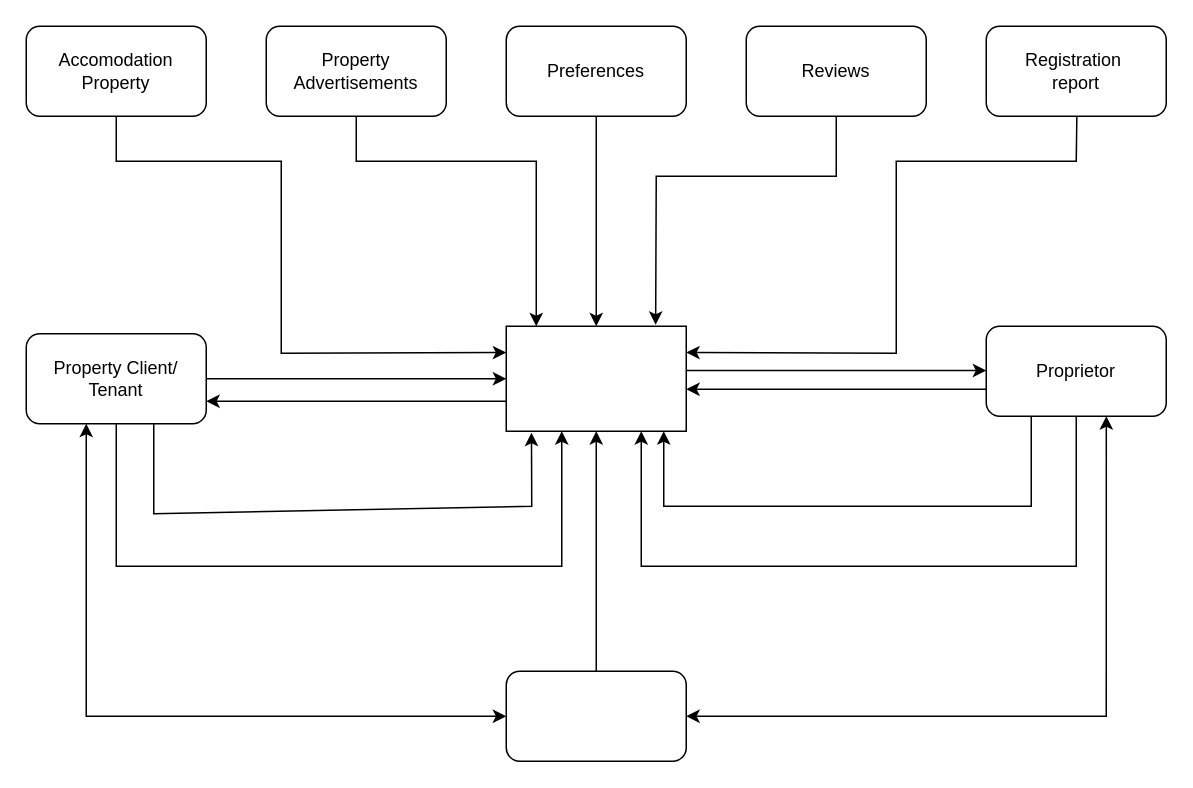
The diagram is 1193 pixels wide and 788 high, and some of its shapes have lost their labels. The shapes that lost their labels are listed below. From the top down, each one's centre as x and y in pixels, then its label:
the point at 595,378: Rental accommodation Website
the point at 595,715: Notification System
